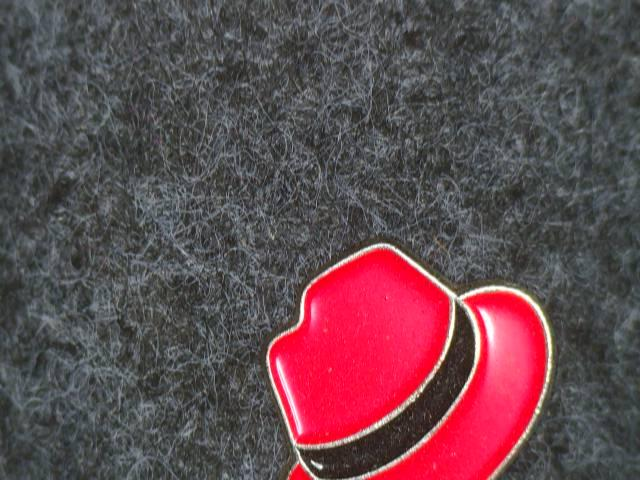Red-Hat: (214, 228, 566, 480)
